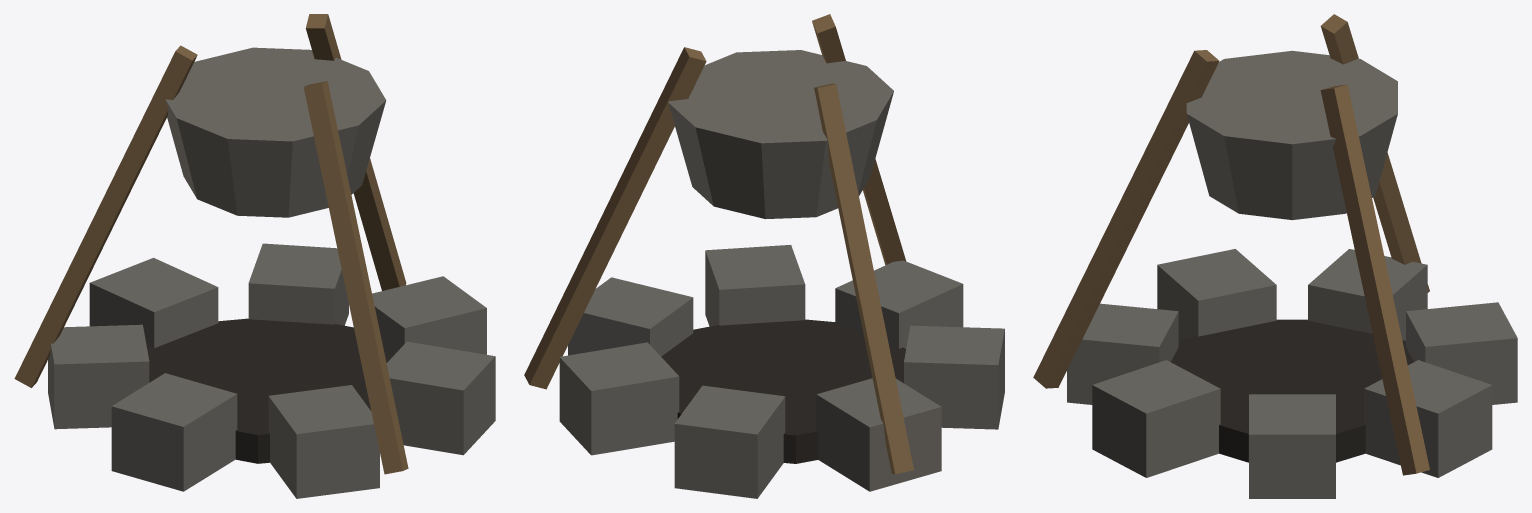
Rendered from P_CookPot.glb.
The picture shows the model from 3 angles, left to right: view 1: azimuth 30°, elevation 25°; view 2: azimuth 150°, elevation 25°; view 3: azimuth 270°, elevation 25°; orthographic projection.
Visible parts, largest first — view 1: P_CookPot; view 2: P_CookPot; view 3: P_CookPot.
Part boxes in pixels (left/top/right/bottom): P_CookPot: left=14, top=14, right=495, bottom=498; P_CookPot: left=524, top=14, right=1004, bottom=498; P_CookPot: left=1033, top=14, right=1517, bottom=498.
Bounding box in the file's own units: 1.14 × 0.9908 × 1.23.
